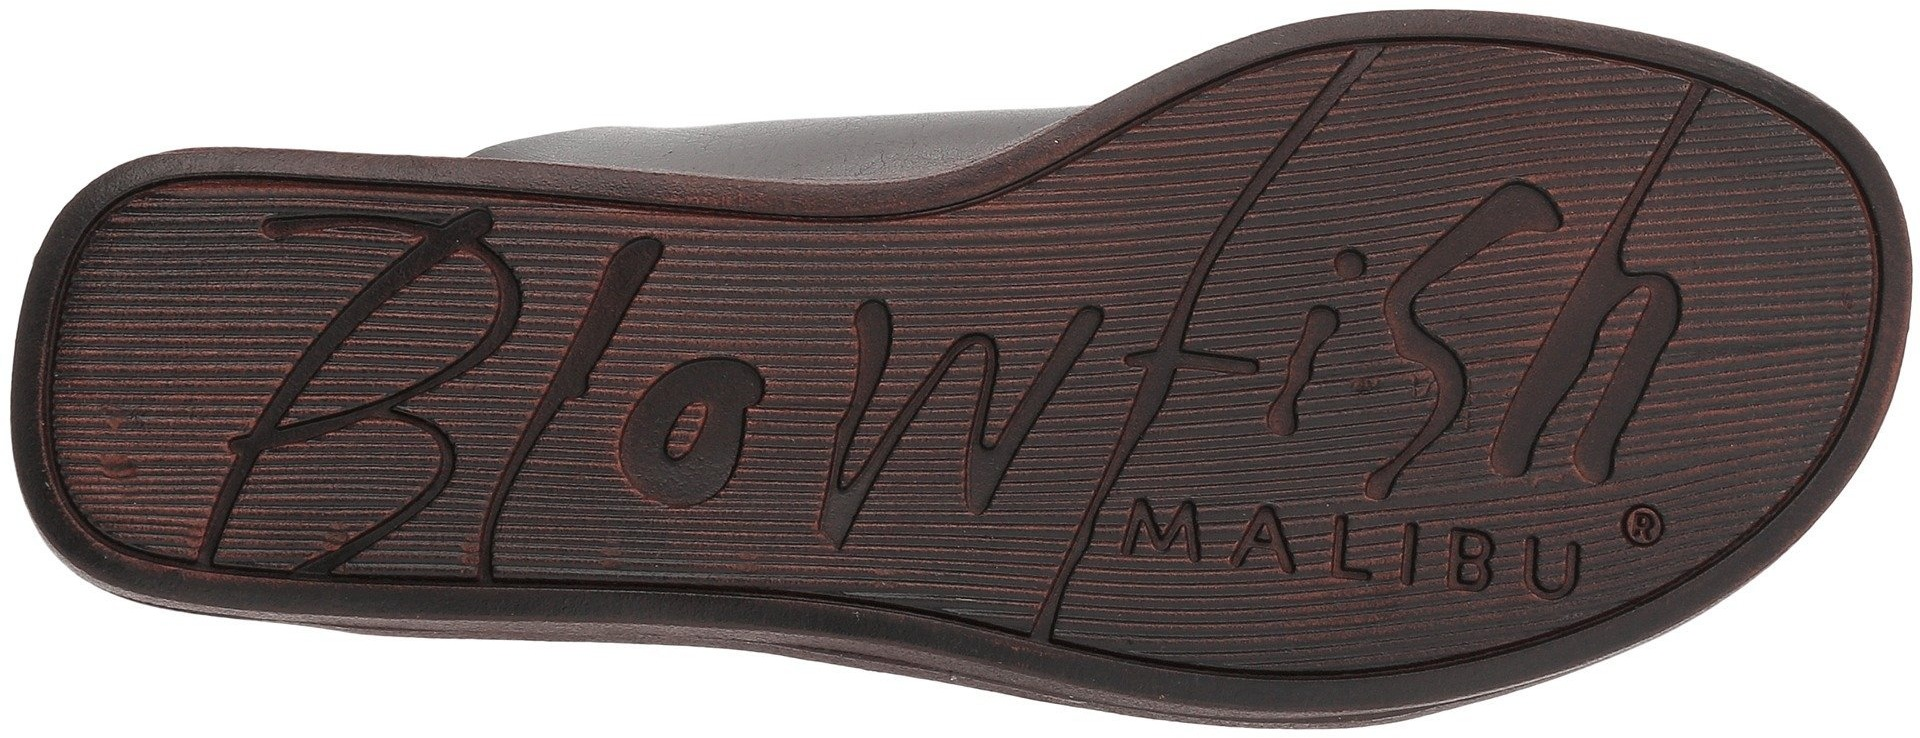exclude: (431, 56, 1113, 201)
text: (142, 29, 1739, 674)
